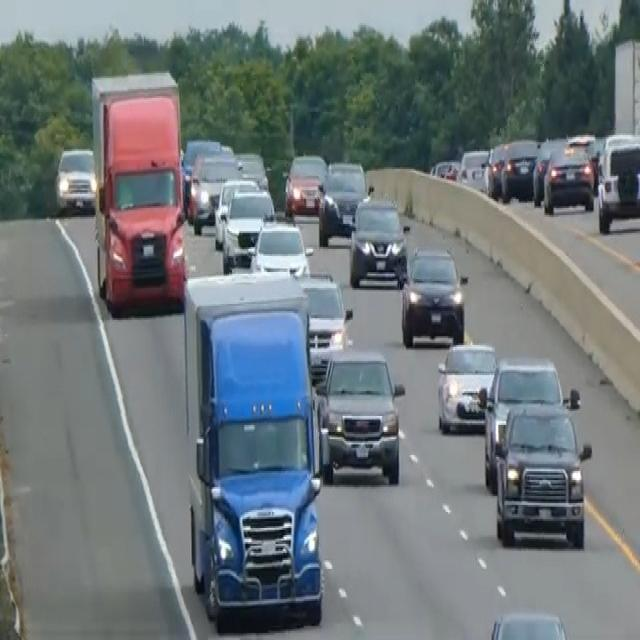car: (493, 394, 592, 548), (315, 345, 405, 485), (480, 356, 566, 490), (400, 244, 467, 346), (295, 268, 352, 377), (436, 338, 497, 434), (348, 194, 408, 288), (220, 185, 275, 270), (317, 158, 368, 244), (596, 131, 639, 233), (188, 151, 238, 233), (542, 142, 595, 214), (249, 217, 311, 277), (212, 174, 258, 247), (180, 135, 222, 208), (283, 151, 327, 219), (55, 144, 96, 212), (485, 608, 572, 638), (500, 137, 539, 203), (531, 135, 566, 205), (567, 130, 600, 188), (482, 139, 509, 197), (233, 150, 269, 190), (457, 146, 489, 190), (430, 156, 459, 182)
lorry: (180, 267, 327, 629), (89, 67, 187, 313)
